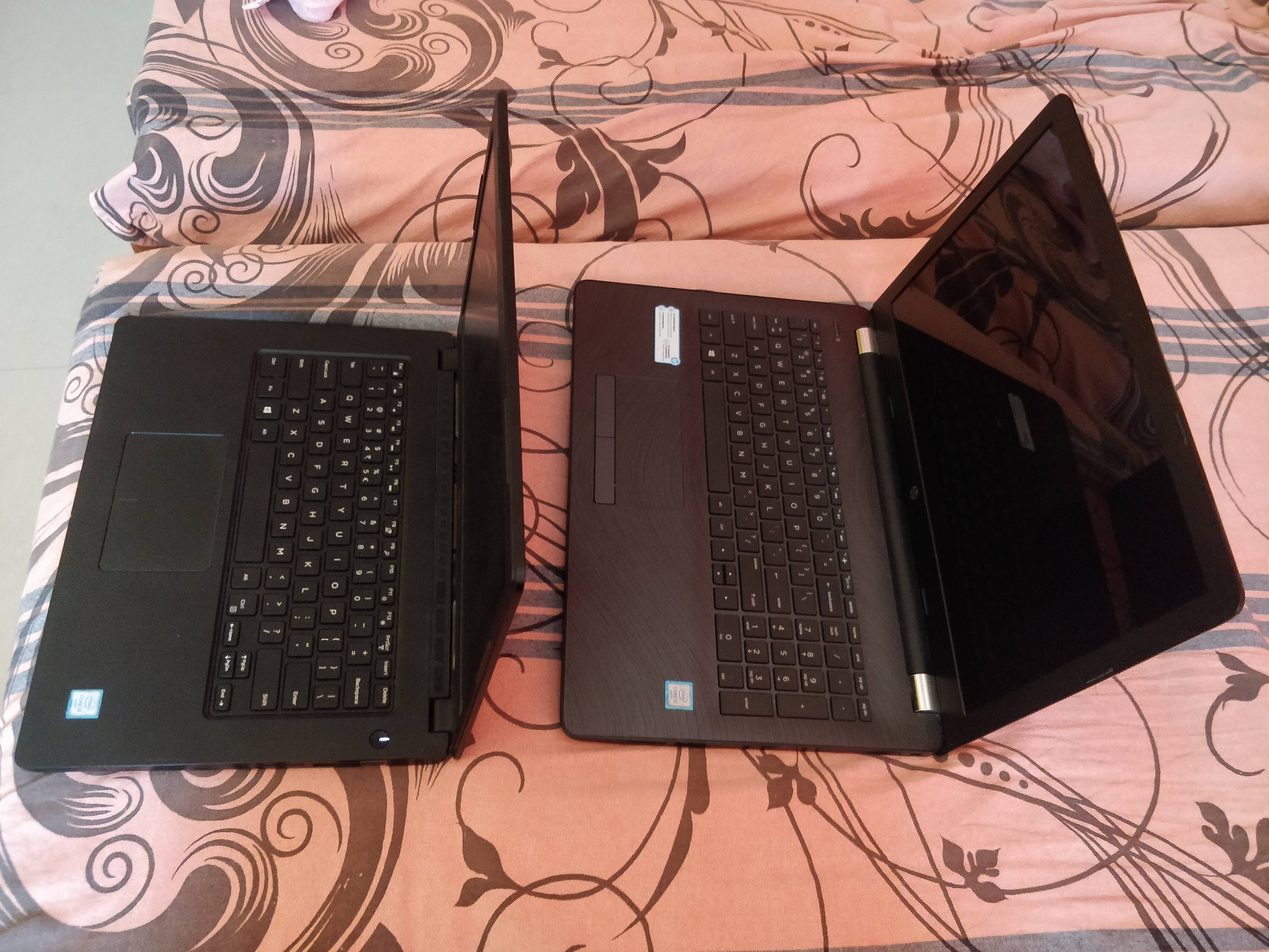Electronics: (544, 85, 1269, 765), (3, 82, 541, 799)
